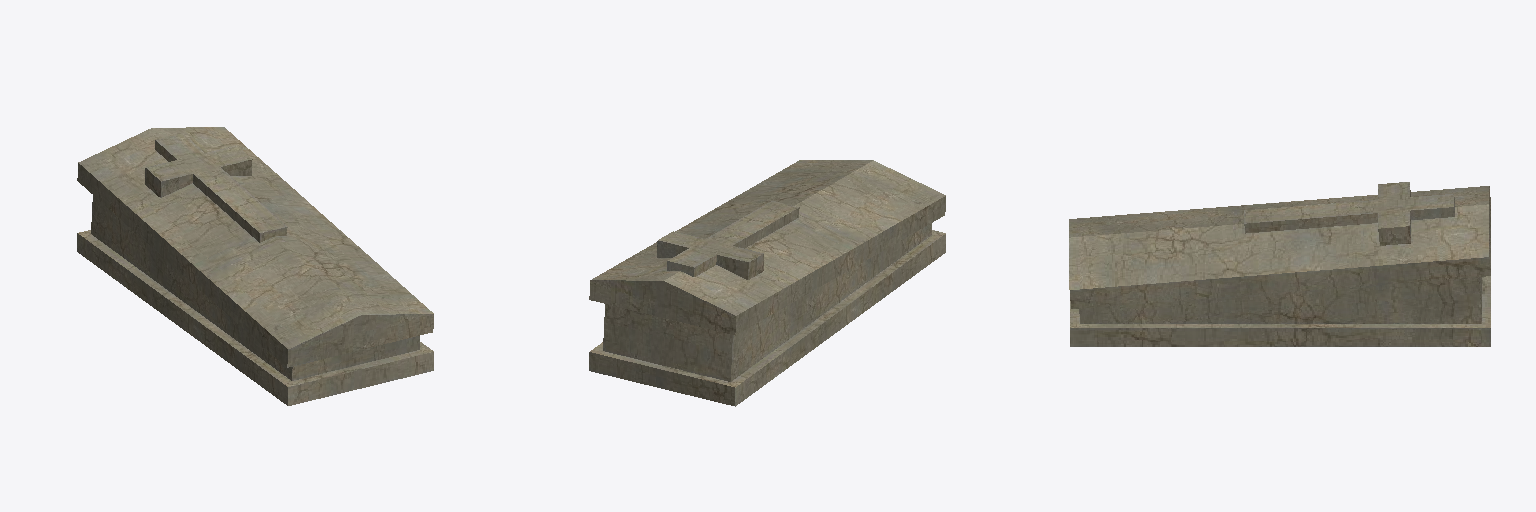
3 views of the same model, side by side, from view 1: azimuth 30°, elevation 25°; view 2: azimuth 150°, elevation 25°; view 3: azimuth 270°, elevation 25° (orthographic).
Size of the model in its own units: 1.6 by 1.16 by 4.01.
1 materials, 1 textured.